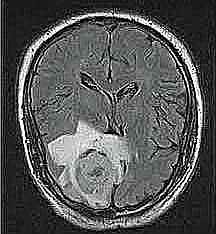Tumor: (47, 121, 129, 209)
